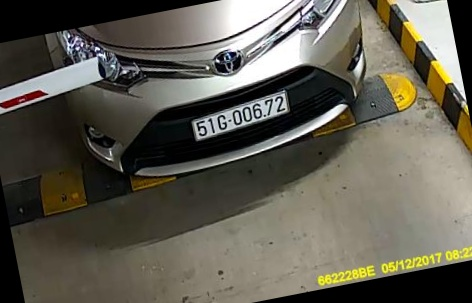plate: (178, 89, 296, 146)
